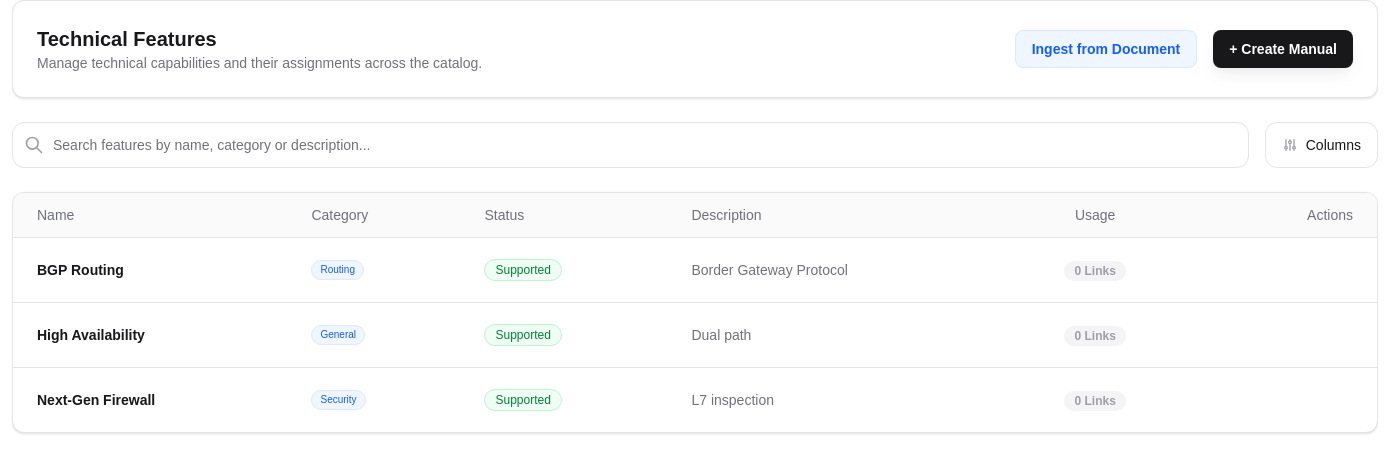
Test: FeatureList Search › filters features by category correctly
# Search for category 'Routing'
Type "Routing" into the field with placeholder "Search features by name, category or description...".
click(630, 145); type("Routing")  # box top-left (12, 122), bottom-right (1249, 168)
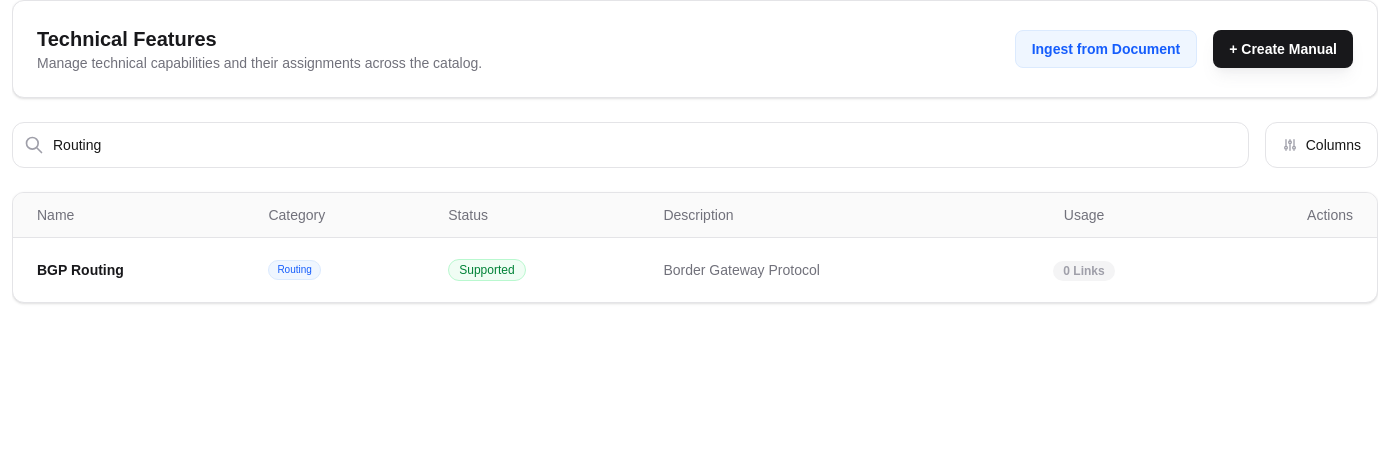
Expected: the text "BGP Routing" is shown, top-left (13, 238), bottom-right (244, 302)
Expected: the text "Next-Gen Firewall" is gone
